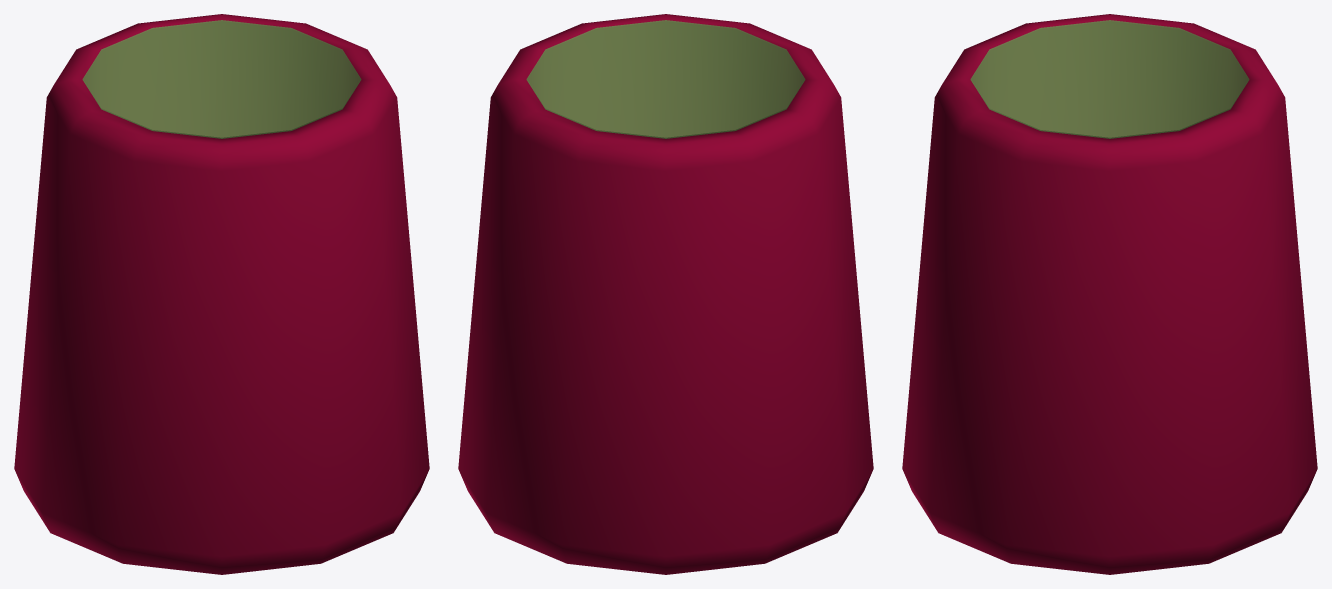
Rendered from Assets_Copo_15Dez25.fbx.
The picture shows the model from 3 angles, left to right: view 1: azimuth 30°, elevation 25°; view 2: azimuth 150°, elevation 25°; view 3: azimuth 270°, elevation 25°; orthographic projection.
Visible parts, largest first — view 1: Copo_Fora, Copo_dentro; view 2: Copo_Fora, Copo_dentro; view 3: Copo_Fora, Copo_dentro.
Boxes of the visible parts, x1,y1,x2,y2 form: Copo_Fora: [14, 14, 429, 574]; Copo_dentro: [82, 20, 361, 138]; Copo_Fora: [458, 14, 873, 574]; Copo_dentro: [526, 20, 805, 138]; Copo_Fora: [902, 14, 1317, 574]; Copo_dentro: [970, 20, 1249, 138].
Size of the model in its own units: 8.57 by 9.6 by 8.57.
